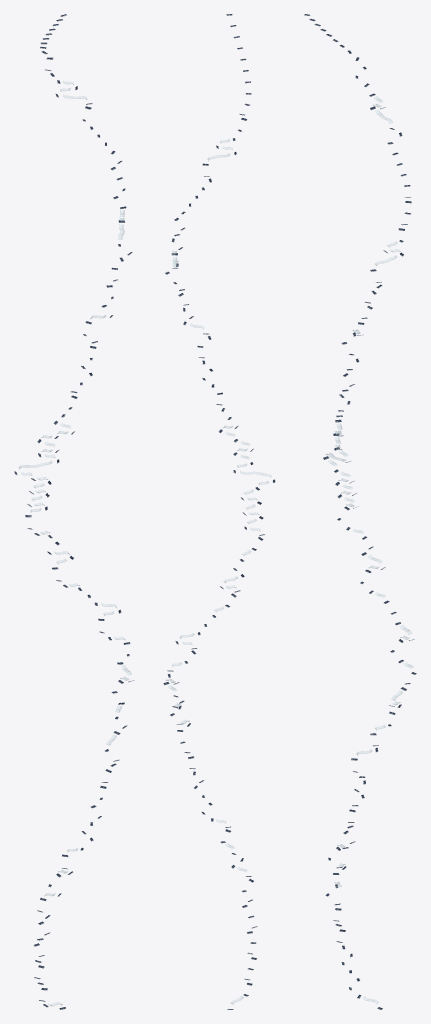
Rendered from C-route-v027-16.glb.
3 views of the same model, side by side, from view 1: azimuth 30°, elevation 25°; view 2: azimuth 210°, elevation 25°; view 3: azimuth 330°, elevation 25° (orthographic). The views are drawn at different scales.
Bounding box in the file's own units: 0.4538 × 4.25 × 0.313.
Materials: 5 (1 with a texture image).
